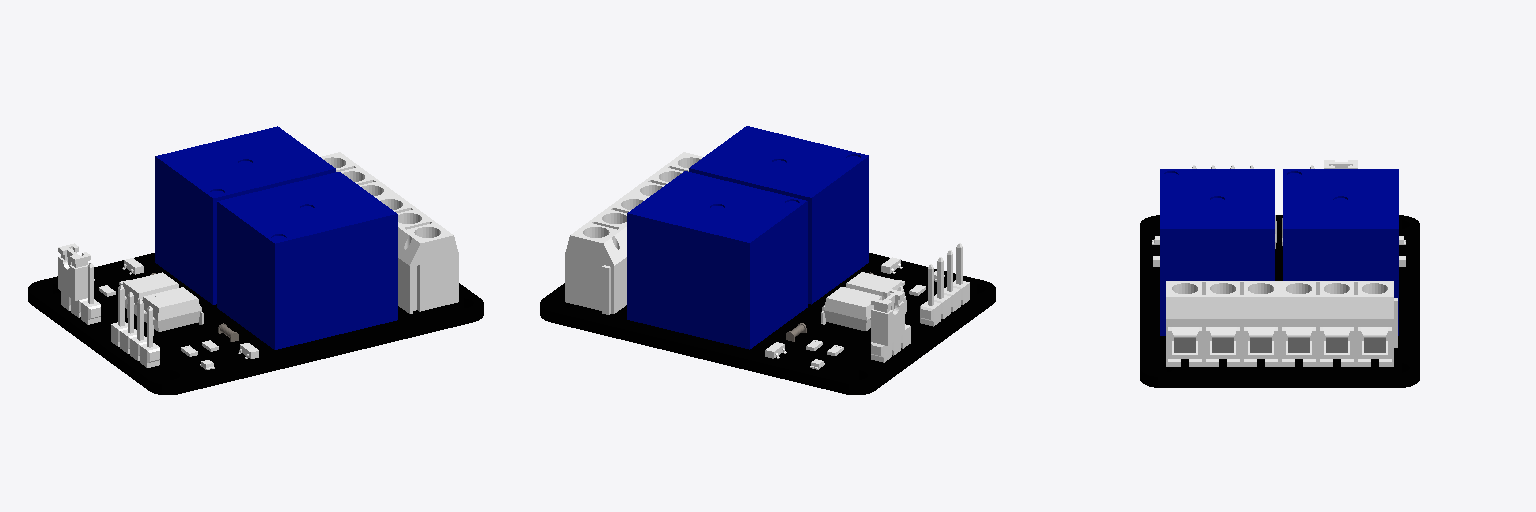
The model's file is RelayBoard.obj.
3 renders of one model, left to right at view 1: azimuth 30°, elevation 25°; view 2: azimuth 150°, elevation 25°; view 3: azimuth 270°, elevation 25°, orthographic.
Visible parts, largest first — view 1: meshes[54], meshes[0], meshes[29], meshes[19], meshes[60], meshes[24], meshes[9], meshes[28]; view 2: meshes[29], meshes[0], meshes[54], meshes[9], meshes[28], meshes[24], meshes[19], meshes[60]; view 3: meshes[54], meshes[29], meshes[0], meshes[9], meshes[19], meshes[8], meshes[11], meshes[1], meshes[7], meshes[17], meshes[18].
Part boxes in pixels (bbox=[...]): meshes[54]: bbox=[217, 172, 397, 349]; meshes[0]: bbox=[28, 253, 483, 394]; meshes[29]: bbox=[155, 126, 335, 304]; meshes[19]: bbox=[377, 194, 458, 313]; meshes[60]: bbox=[142, 287, 200, 331]; meshes[24]: bbox=[58, 243, 90, 300]; meshes[9]: bbox=[321, 152, 396, 197]; meshes[28]: bbox=[123, 272, 178, 315]; meshes[29]: bbox=[627, 171, 807, 349]; meshes[0]: bbox=[540, 253, 995, 394]; meshes[54]: bbox=[689, 126, 868, 304]; meshes[9]: bbox=[565, 194, 646, 314]; meshes[28]: bbox=[824, 287, 882, 330]; meshes[24]: bbox=[871, 288, 904, 345]; meshes[19]: bbox=[627, 152, 702, 197]; meshes[60]: bbox=[846, 272, 902, 299]; meshes[54]: bbox=[1160, 169, 1274, 335]; meshes[29]: bbox=[1283, 169, 1398, 335]; meshes[0]: bbox=[1140, 215, 1419, 387]; meshes[9]: bbox=[1280, 281, 1397, 366]; meshes[19]: bbox=[1166, 281, 1279, 366]; meshes[8]: bbox=[1285, 327, 1312, 352]; meshes[11]: bbox=[1247, 327, 1274, 352]; meshes[1]: bbox=[1361, 327, 1387, 352]; meshes[7]: bbox=[1323, 327, 1349, 352]; meshes[17]: bbox=[1210, 327, 1236, 352]; meshes[18]: bbox=[1172, 327, 1198, 352].
Size of the model in its own units: 50.55 by 19.3 by 36.88.